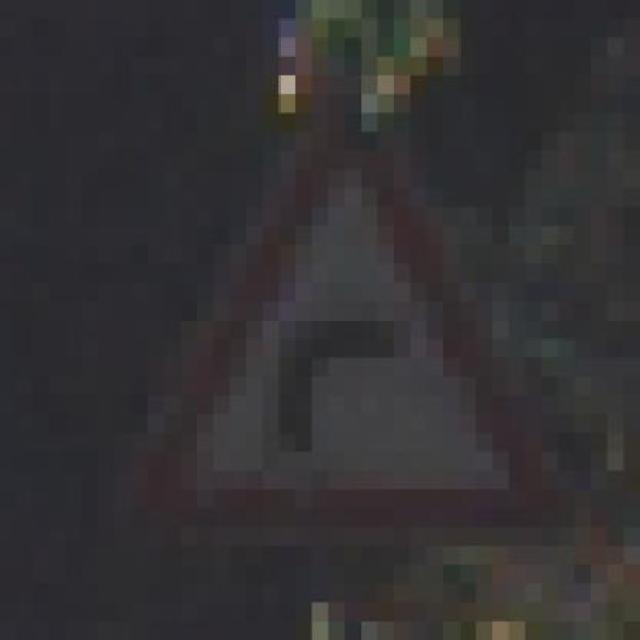Dangerous Rright Curve Ahead: (66, 94, 574, 546)
